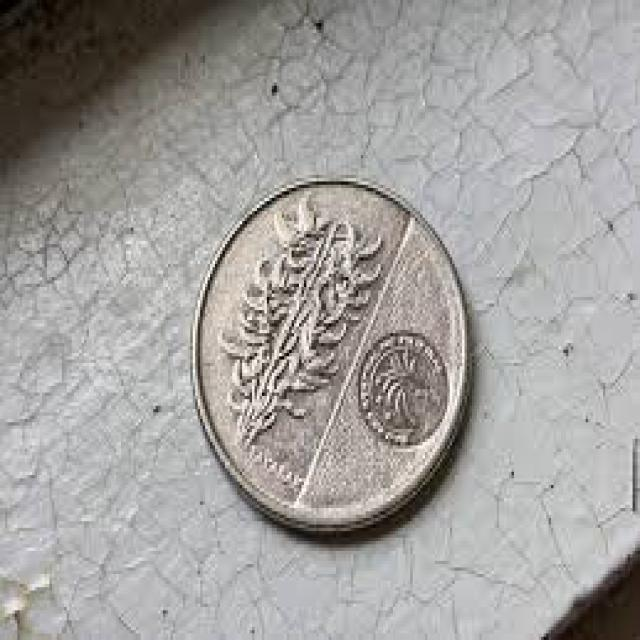5 peso: (189, 169, 477, 540)
